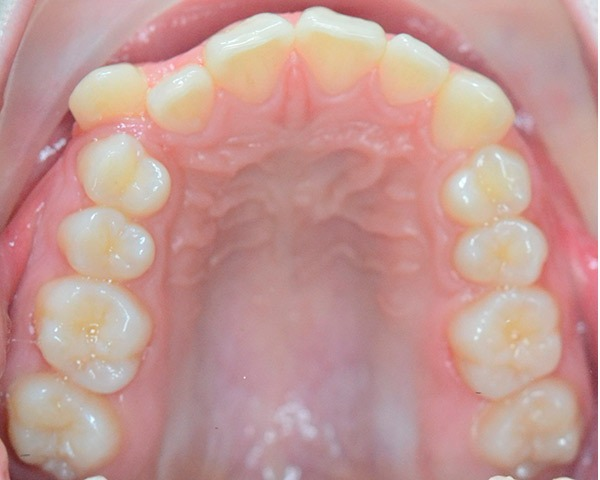UL1BC_healthy: (441, 145, 533, 223)
UL1M_healthy: (451, 292, 566, 394)
UL2BC_healthy: (457, 217, 549, 285)
UL2M_healthy: (479, 385, 584, 471)
ULCI_healthy: (297, 7, 386, 95)
ULC_healthy: (433, 71, 513, 147)
ULLI_healthy: (380, 33, 446, 107)
UR1BC_healthy: (80, 132, 172, 215)
UR1M_healthy: (34, 278, 153, 385)
UR2BC_healthy: (57, 207, 155, 275)
UR2M_healthy: (10, 378, 123, 474)
URCI_healthy: (212, 14, 295, 99)
URLI_healthy: (152, 67, 216, 130)
